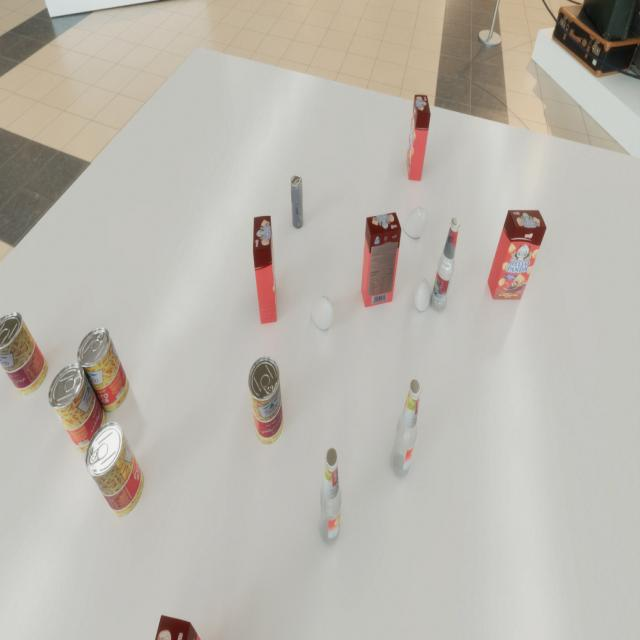Bottle: (391, 379, 422, 479), (431, 218, 460, 312), (319, 448, 342, 546)
HelloPanda: (488, 210, 546, 300), (362, 212, 402, 307), (253, 216, 277, 324), (406, 94, 431, 181)
Potato_sticks: (85, 422, 144, 516), (48, 363, 107, 452), (77, 328, 129, 412), (0, 312, 48, 395), (248, 356, 284, 445)
Rita_zero_sugar: (291, 175, 303, 229)
Salt: (312, 294, 334, 330), (404, 207, 428, 238), (414, 277, 431, 311)
